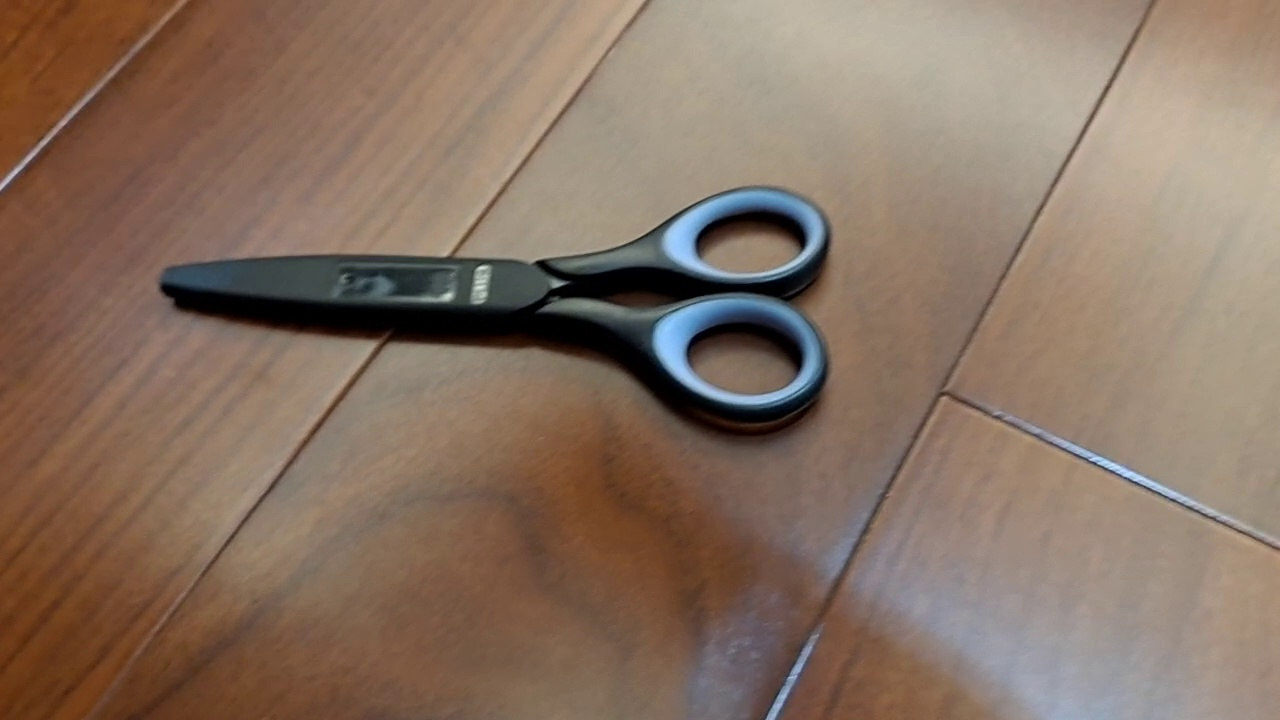scissors: (155, 181, 834, 427)
